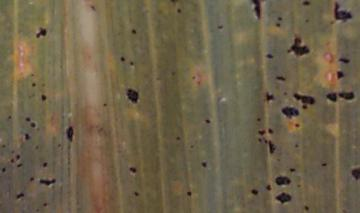tarspot: (286, 34, 310, 57), (334, 1, 353, 21), (293, 92, 315, 104), (281, 106, 299, 119), (275, 192, 293, 203), (127, 88, 138, 105), (253, 1, 262, 20), (40, 178, 57, 187), (275, 176, 291, 185), (36, 27, 47, 38), (339, 92, 354, 100), (326, 92, 337, 102), (352, 167, 360, 180), (265, 92, 274, 103), (269, 140, 276, 154), (67, 127, 73, 142), (338, 58, 349, 64), (276, 75, 286, 81), (338, 70, 344, 80), (251, 188, 260, 194), (259, 129, 266, 136), (266, 184, 273, 191), (201, 161, 207, 168), (266, 53, 273, 59), (17, 193, 24, 199), (170, 70, 176, 77), (302, 1, 310, 6), (289, 167, 297, 172), (30, 122, 36, 128), (176, 8, 182, 14), (282, 90, 288, 96), (25, 133, 30, 140), (129, 167, 136, 172), (191, 73, 196, 80), (41, 95, 46, 101), (205, 119, 211, 124), (34, 144, 39, 150), (134, 191, 140, 196), (56, 143, 62, 148), (296, 183, 302, 188), (102, 102, 107, 107), (1, 143, 6, 148), (277, 16, 282, 21), (296, 123, 301, 128), (269, 128, 274, 133), (295, 143, 300, 148), (304, 206, 309, 211), (187, 191, 192, 196), (43, 202, 48, 207), (276, 157, 281, 162), (189, 143, 194, 148), (171, 1, 179, 4), (322, 163, 328, 167), (132, 29, 136, 34), (121, 56, 125, 61), (130, 61, 134, 66), (25, 117, 30, 121), (218, 25, 223, 29), (176, 136, 180, 141), (305, 18, 309, 23), (303, 104, 308, 108), (30, 177, 35, 181), (30, 72, 34, 77), (17, 154, 20, 160), (44, 161, 47, 167), (91, 6, 95, 10), (32, 83, 36, 87), (18, 163, 22, 167), (276, 23, 280, 27), (257, 117, 261, 121), (11, 149, 15, 153), (8, 115, 12, 118), (11, 159, 14, 163), (2, 168, 5, 172), (259, 138, 262, 142), (264, 139, 267, 143)
